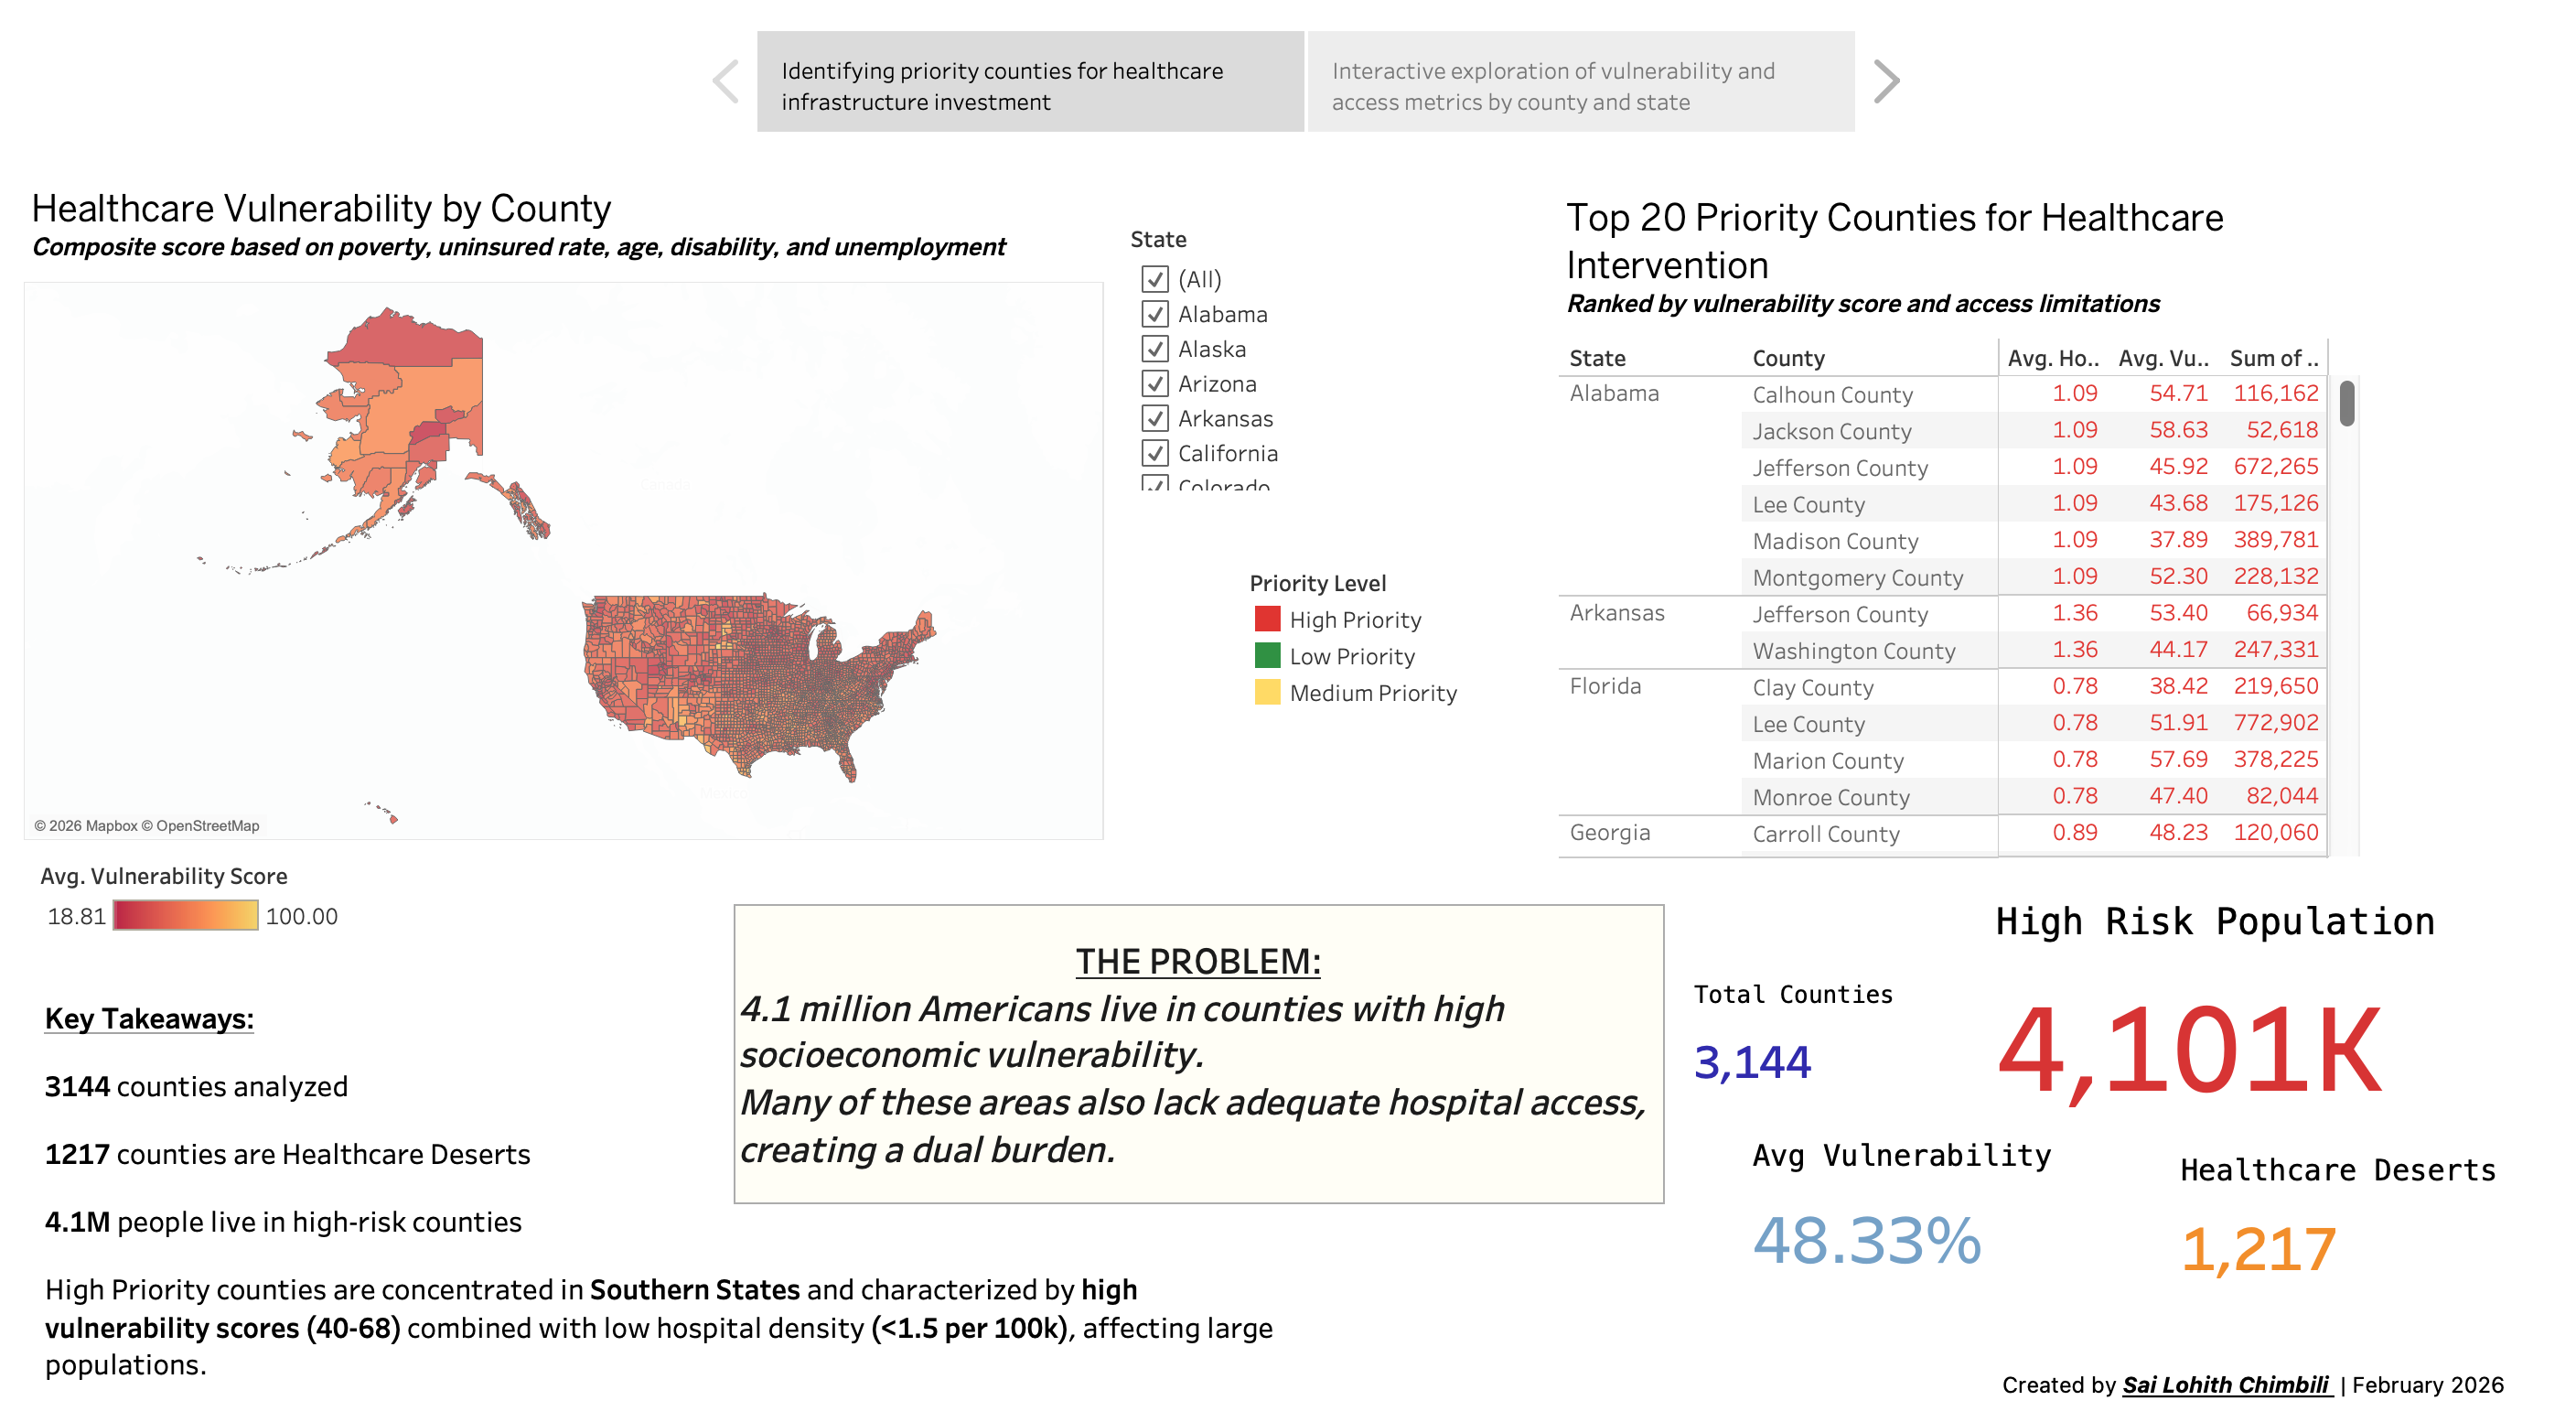

This screenshot's page, from the dashboard's own definition file:
{"tool":"tableau","page":{"name":"Dashboard 1","canvas":[1000,1000],"units":"permille","ordinal":0},"visuals":[{"type":"worksheet","title":"Sheet 1","mark":"Automatic","box":[8.9,6.8,413.8,528.6]},{"type":"worksheet","title":"Sheet 3","mark":"Automatic","rows":["priority_level","state","county"],"box":[596.8,15,382.9,535.4]},{"type":"filter","title":"Sheet 1","param":"[federated.1517m8f12rb6w81at8xzz1ns04v7].[none:state:nk]","box":[432.5,43.6,130.1,212.5]},{"type":"legend","title":"Sheet 3","param":"[federated.1517m8f12rb6w81at8xzz1ns04v7].[none:priority_level:nk]","box":[478.1,317.4,102.4,133.5]},{"type":"legend","title":"Sheet 1","param":"[federated.1517m8f12rb6w81at8xzz1ns04v7].[avg:vulnerability_score:qk]","box":[15.5,550.4,117.9,92.6]},{"type":"worksheet","title":"Sheet 8","mark":"Automatic","box":[761,577.7,213.8,219.3]},{"type":"worksheet","title":"Sheet 6","mark":"Automatic","box":[645.5,641.7,104.9,129.4]},{"type":"text","box":[15.5,652.6,480.5,332.4]},{"type":"worksheet","title":"Sheet 9","mark":"Automatic","box":[668.3,767,139.8,154]},{"type":"worksheet","title":"Sheet 7","mark":"Automatic","box":[831.7,777.9,156.1,143.1]},{"type":"text","box":[765,946.9,232.5,43.6]}]}

Visuals, with their boxes on the dashboard's canvas, which has no fixed pixel size, in thousandths of its width and height (x1, y1, x2, y2). These are canvas units, not pixel positions in the 2576x1422 screenshot, which may show the page scaled, cropped or inside an application window:
"Sheet 1" worksheet: [left=9, top=7, right=423, bottom=535]
"Sheet 3" worksheet: [left=597, top=15, right=980, bottom=550]
"Sheet 1" filter: [left=432, top=44, right=563, bottom=256]
"Sheet 3" legend: [left=478, top=317, right=580, bottom=451]
"Sheet 1" legend: [left=16, top=550, right=133, bottom=643]
"Sheet 8" worksheet: [left=761, top=578, right=975, bottom=797]
"Sheet 6" worksheet: [left=646, top=642, right=750, bottom=771]
text: [left=16, top=653, right=496, bottom=985]
"Sheet 9" worksheet: [left=668, top=767, right=808, bottom=921]
"Sheet 7" worksheet: [left=832, top=778, right=988, bottom=921]
text: [left=765, top=947, right=998, bottom=990]
